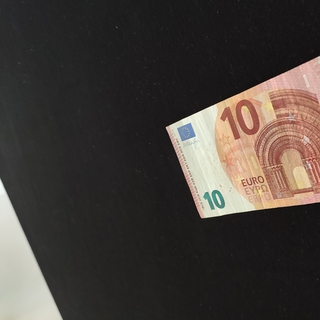10EUROFront: (164, 39, 320, 218)
